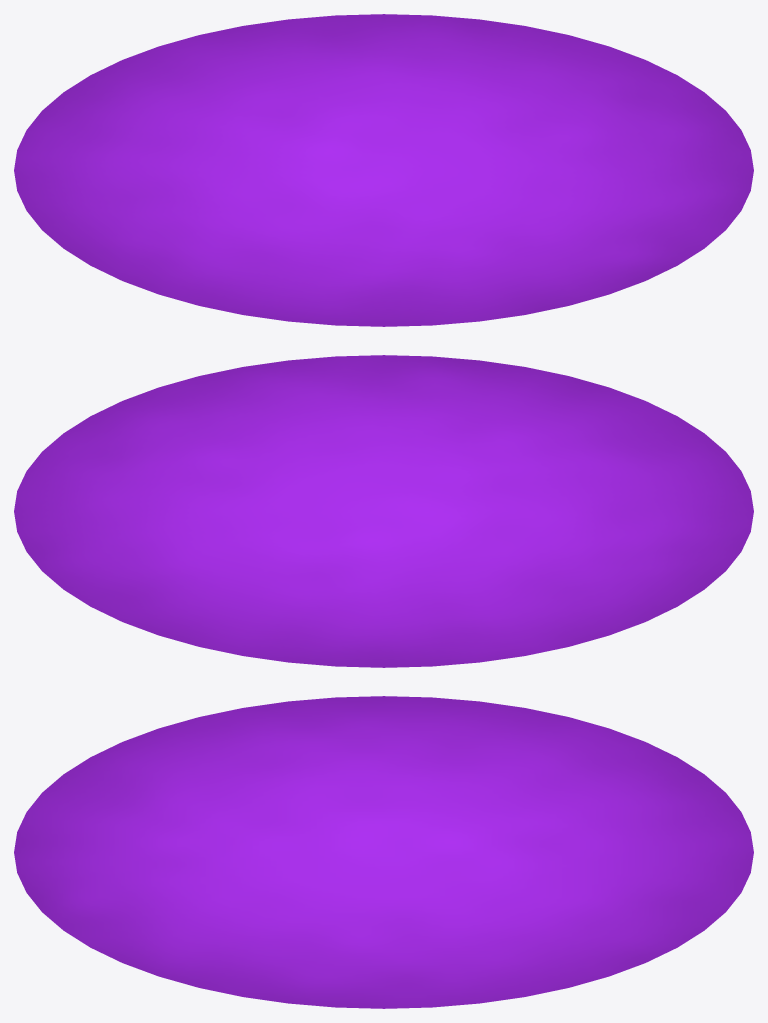
The model's file is mm6_deco_barrel_liquid_purple.glb.
3 renders of one model, top to bottom at view 1: azimuth 30°, elevation 25°; view 2: azimuth 150°, elevation 25°; view 3: azimuth 270°, elevation 25°, orthographic.
Parts seen in each view (by area): view 1: Liquid; view 2: Liquid; view 3: Liquid.
Part boxes in pixels (<box>): Liquid: <box>14,14,753,326</box>; Liquid: <box>14,355,753,667</box>; Liquid: <box>14,696,753,1008</box>.
Bounding box in the file's own units: 0.529 × 0 × 0.529.
1 material, 1 textured.
